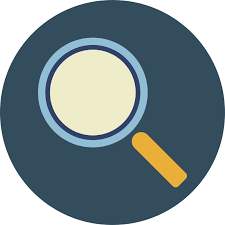searchIcon: (36, 36, 188, 189)
